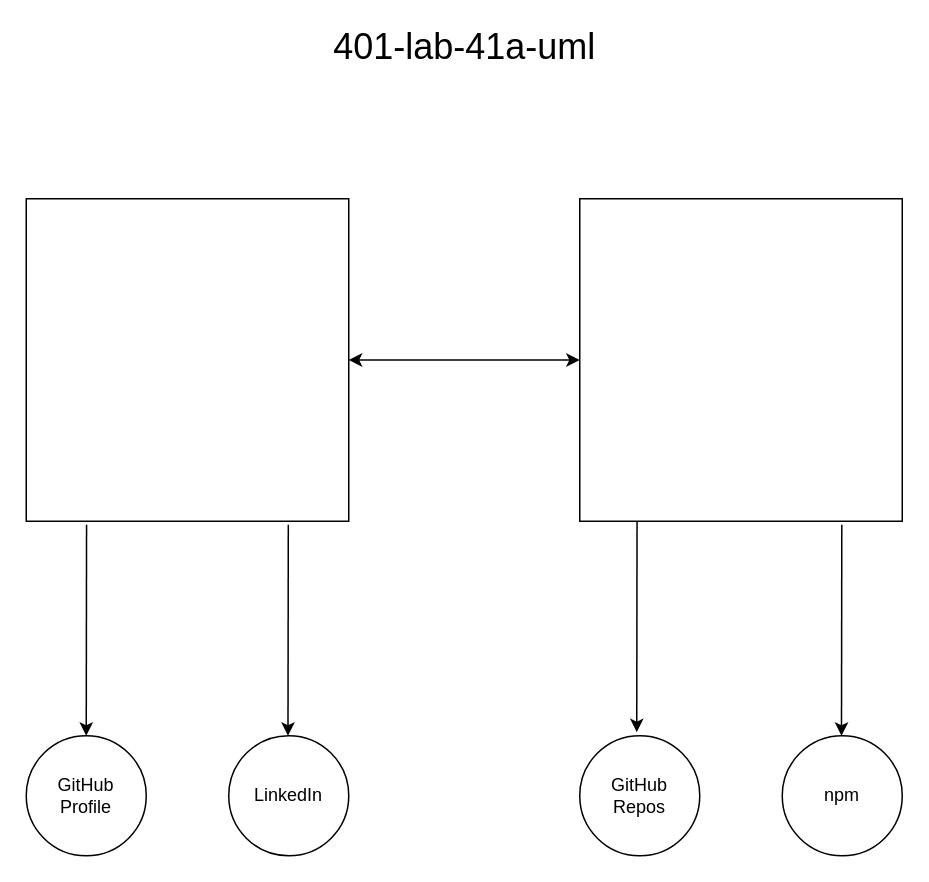
This 929x882 diagram has some shape labels left out. The box of each missing label's shape, as (x1, y1, x2, y2) in pixels:
Homepage Name Navigation Contact Info Profile Pic: (25, 197, 349, 521)
Intro text Navigation Contacts Info Project Images Project Links: (578, 197, 902, 521)
